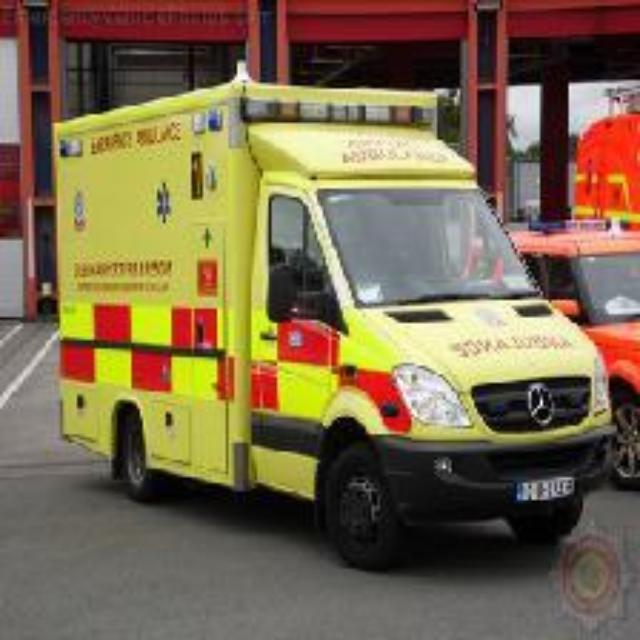emergency: (37, 84, 585, 562)
